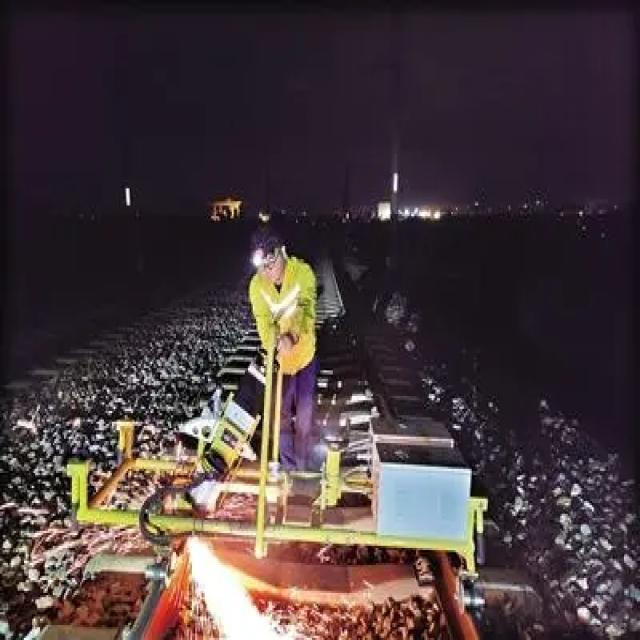Other_objects: (67, 412, 485, 557)
people: (238, 224, 328, 472)
